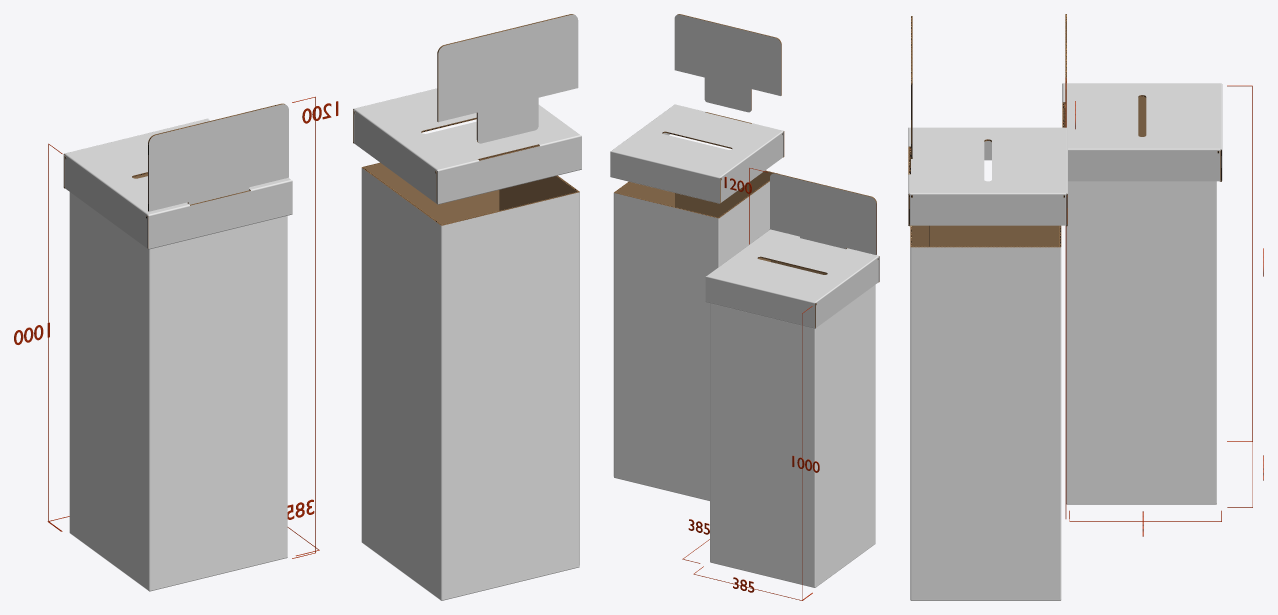
File: 4D SANIDAD.gltf
3 renders of one model, left to right at view 1: azimuth 30°, elevation 25°; view 2: azimuth 150°, elevation 25°; view 3: azimuth 270°, elevation 25°, orthographic. The views are drawn at different scales.
Visible parts, largest first — view 1: TQ_ARD-node.004, TQ_ARD-node, TQ_ARD-node.005, TQ_ARD-node.006, TQ_ARD-node.001, TQ_ARD-node.003; view 2: TQ_ARD-node, TQ_ARD-node.004, TQ_ARD-node.005, TQ_ARD-node.001, TQ_ARD-node.006, TQ_ARD-node.003; view 3: TQ_ARD-node.004, TQ_ARD-node, TQ_ARD-node.005, TQ_ARD-node.001, Plano.004.
Boxes of the visible parts, x1=… form: TQ_ARD-node.004: x1=361, y1=162, x2=579, y2=600; TQ_ARD-node: x1=69, y1=174, x2=287, y2=591; TQ_ARD-node.005: x1=353, y1=88, x2=581, y2=204; TQ_ARD-node.006: x1=437, y1=14, x2=578, y2=143; TQ_ARD-node.001: x1=63, y1=118, x2=292, y2=249; TQ_ARD-node.003: x1=148, y1=103, x2=288, y2=211; TQ_ARD-node: x1=710, y1=258, x2=875, y2=587; TQ_ARD-node.004: x1=613, y1=170, x2=777, y2=500; TQ_ARD-node.005: x1=610, y1=104, x2=784, y2=203; TQ_ARD-node.001: x1=705, y1=229, x2=879, y2=328; TQ_ARD-node.006: x1=674, y1=14, x2=781, y2=112; TQ_ARD-node.003: x1=770, y1=173, x2=876, y2=254; TQ_ARD-node.004: x1=910, y1=225, x2=1061, y2=600; TQ_ARD-node: x1=1066, y1=96, x2=1216, y2=504; TQ_ARD-node.005: x1=908, y1=127, x2=1067, y2=226; TQ_ARD-node.001: x1=1062, y1=83, x2=1222, y2=181; Plano.004: x1=1065, y1=78, x2=1066, y2=518.
Size of the model in its own units: 1.06 by 1.49 by 0.913.
10 materials, 3 textured.
